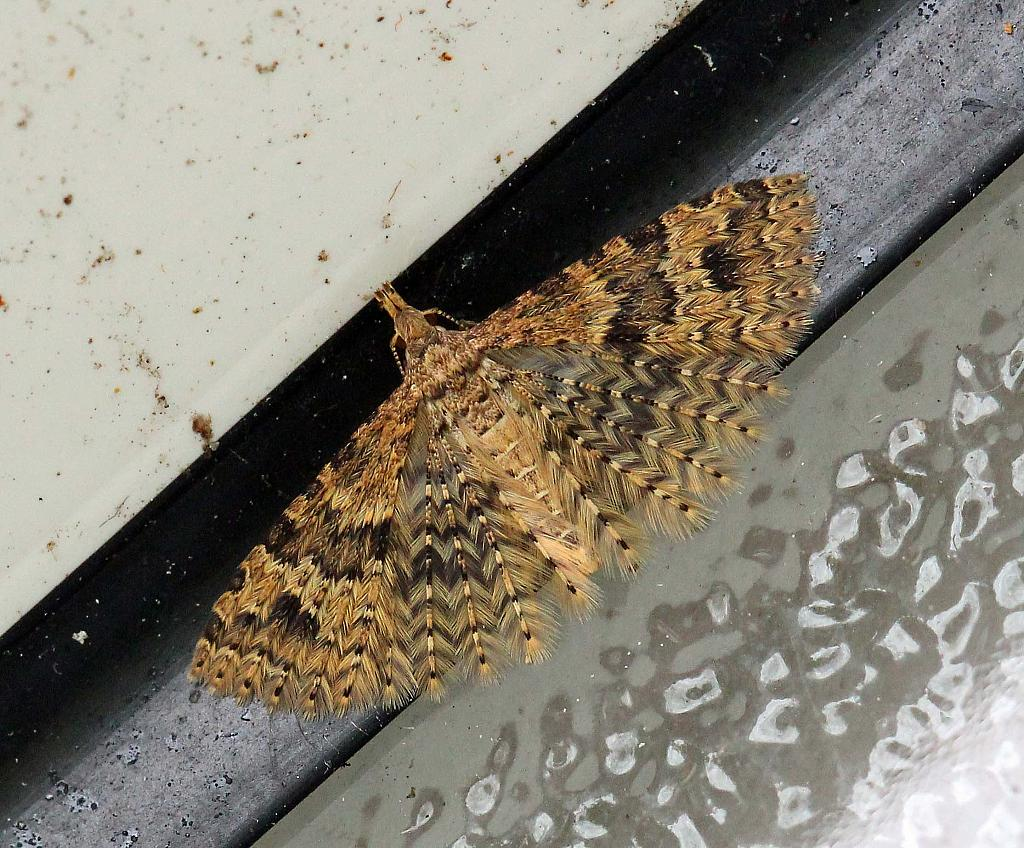Alucitidae: (176, 157, 827, 730)
moth: (174, 155, 825, 728)
